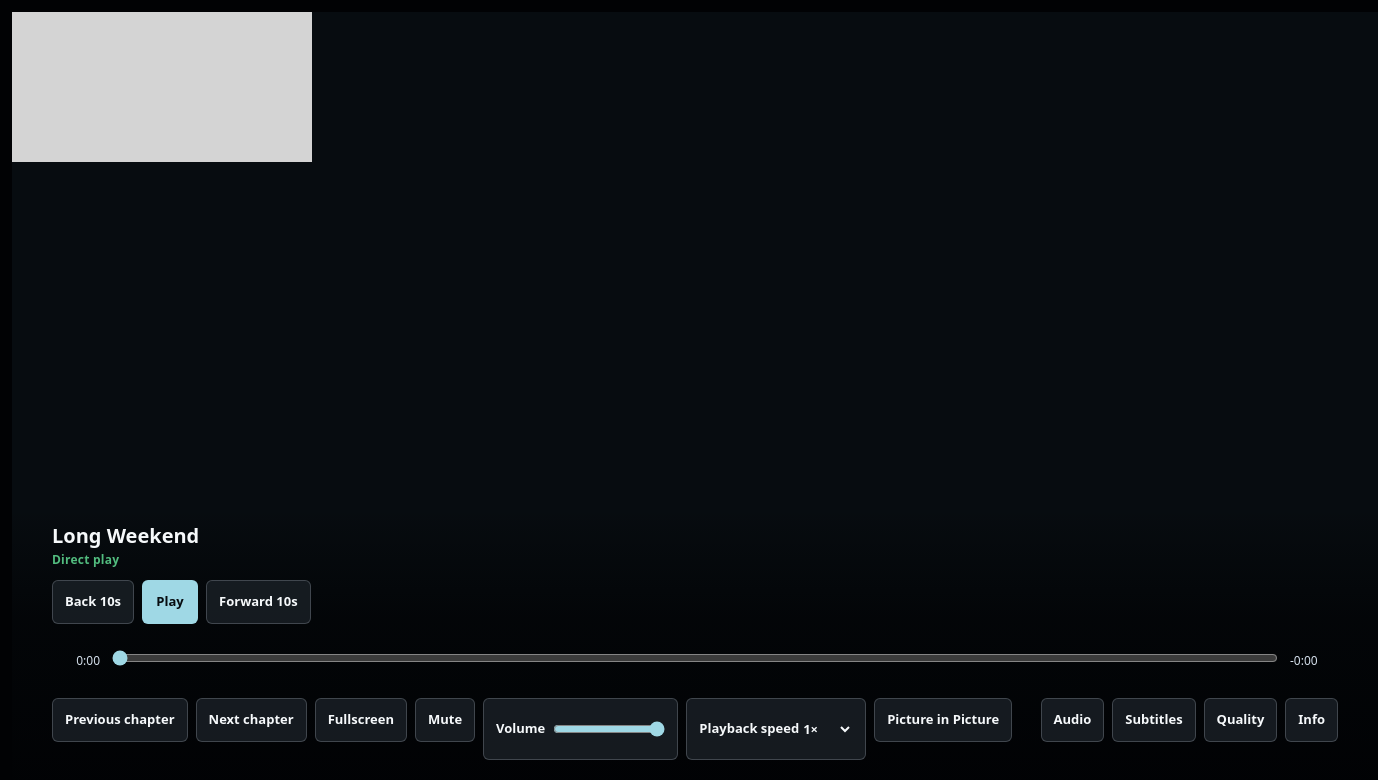
Test: PlayerTransport › reports Picture in Picture rejection without claiming an active state
The width and height of the screenshot is (1378, 780).
Click the button "Picture in Picture" at (943, 720), box [874, 698, 1012, 742]
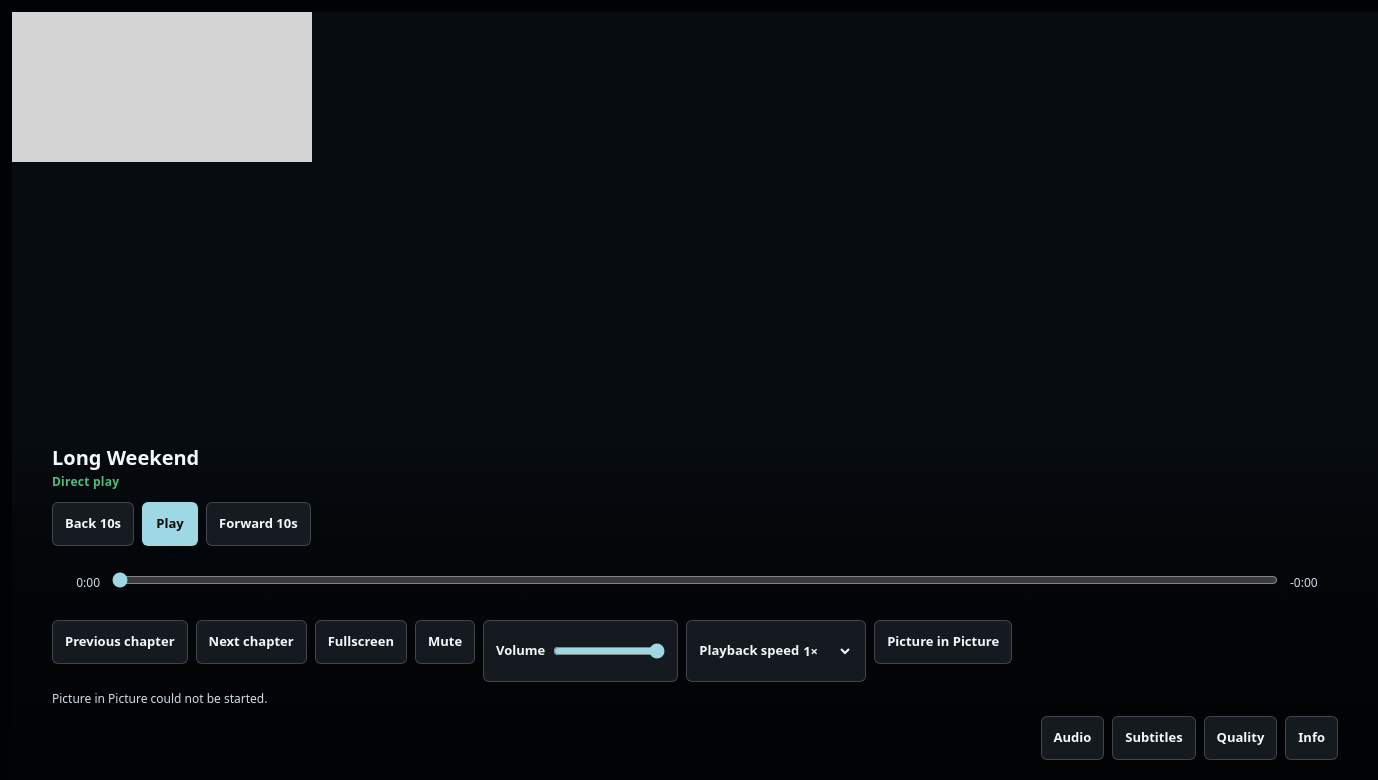
Expected: the message reads "Picture in Picture could not be started.", [52, 690, 268, 707]
